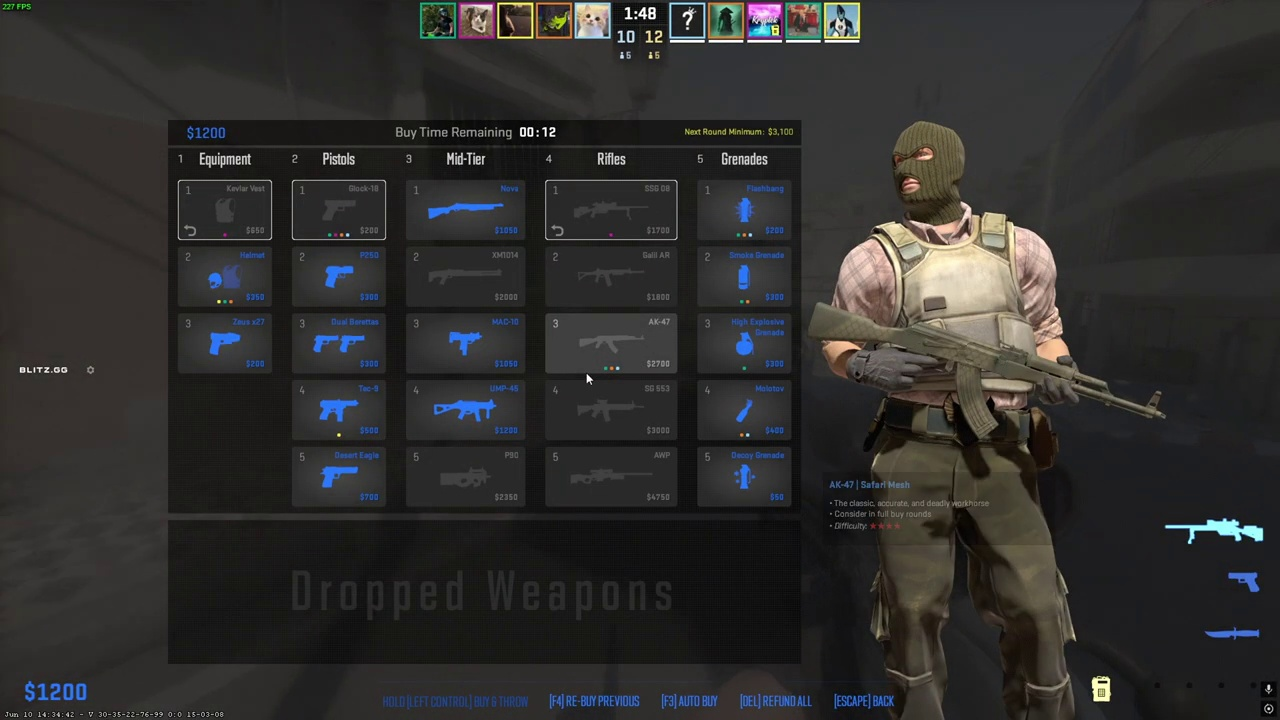Terrorist: (845, 120, 1082, 720)
